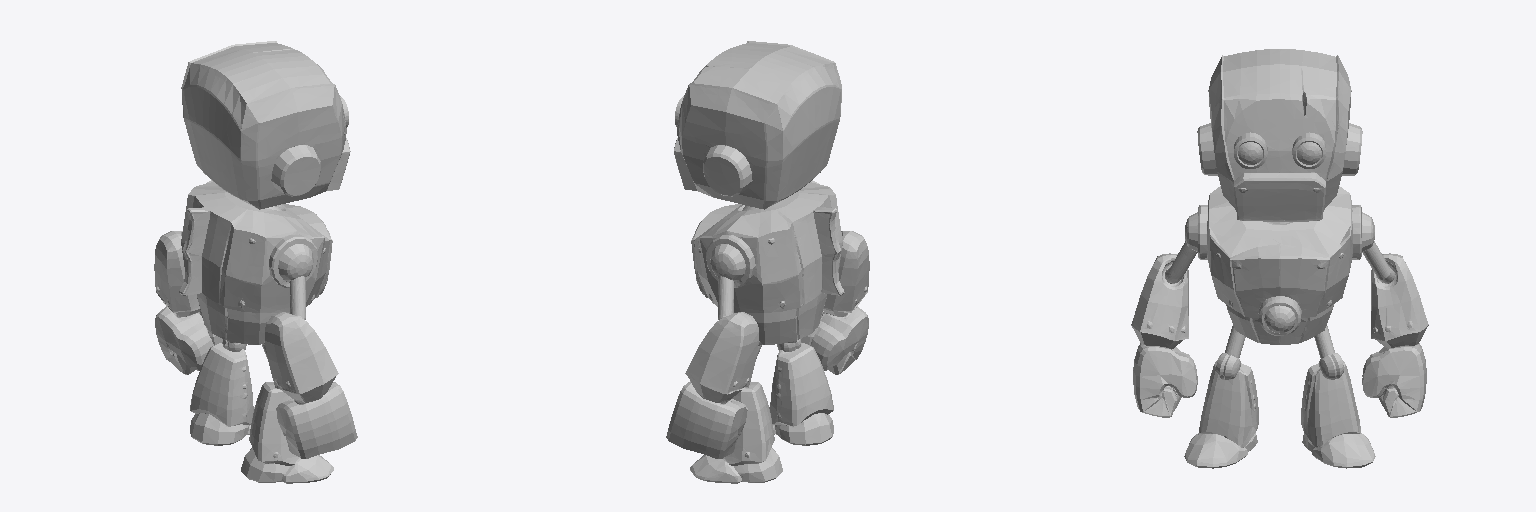
File: robot.obj
The picture shows the model from 3 angles: view 1: azimuth 30°, elevation 25°; view 2: azimuth 150°, elevation 25°; view 3: azimuth 270°, elevation 25°; orthographic projection.
Visible parts, largest first — view 1: Object_4; view 2: Object_4; view 3: Object_4.
Part boxes in pixels (left/top/right/bottom): Object_4: left=154, top=41, right=357, bottom=483; Object_4: left=666, top=41, right=869, bottom=483; Object_4: left=1131, top=49, right=1428, bottom=468.
Size of the model in its own units: 0.403 by 1 by 0.6918.